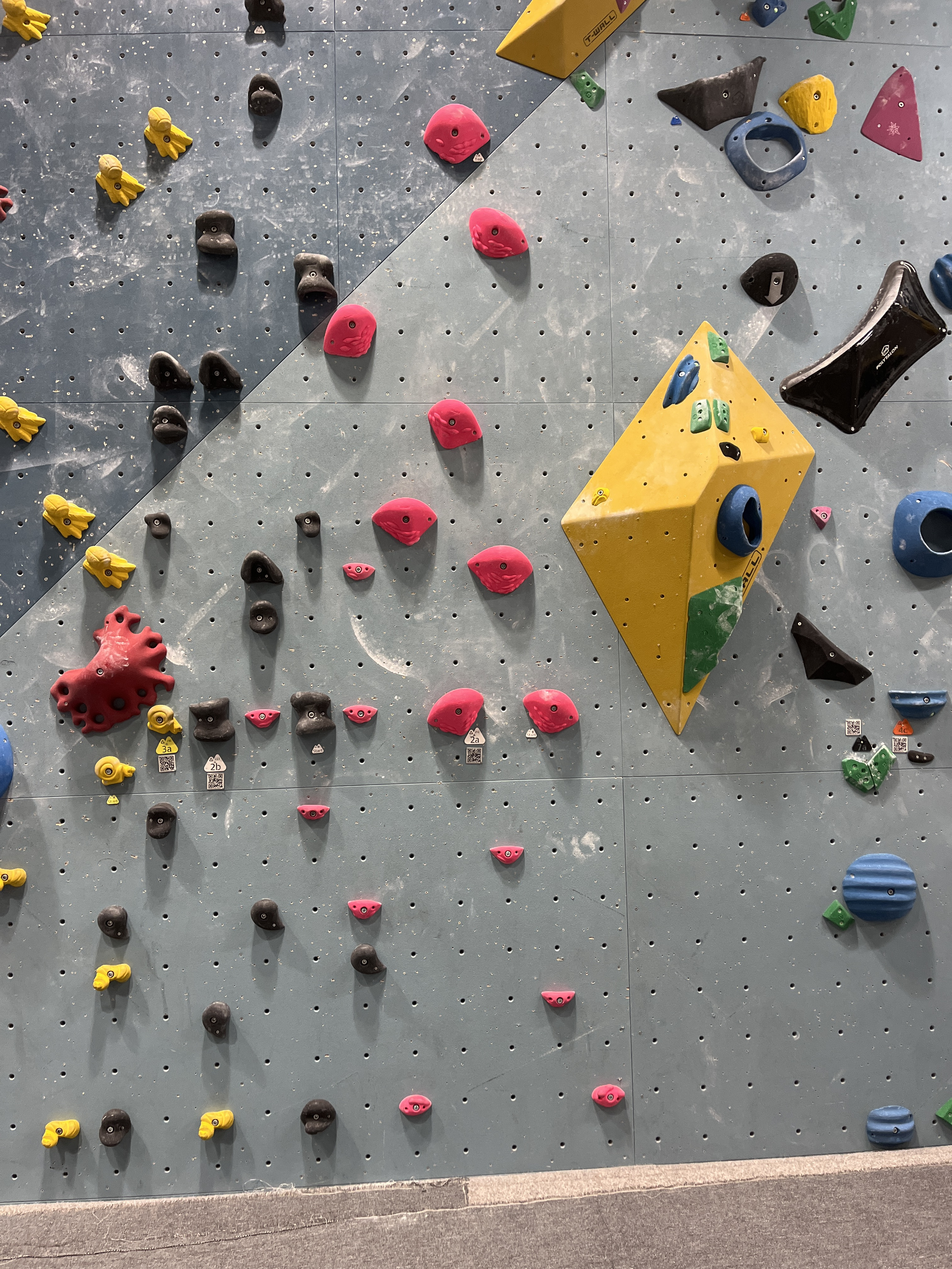hold: (781, 261, 946, 432), (51, 608, 170, 733), (659, 57, 763, 127), (683, 577, 742, 692), (725, 112, 807, 191), (862, 67, 920, 156), (793, 614, 870, 680), (892, 491, 950, 577), (842, 854, 916, 917), (424, 105, 488, 162), (779, 75, 837, 133), (740, 253, 798, 306), (716, 486, 759, 553), (372, 499, 434, 545), (470, 208, 527, 257), (470, 547, 530, 592), (323, 305, 375, 354), (428, 400, 480, 448), (523, 690, 577, 733), (428, 690, 481, 733), (295, 253, 335, 307), (97, 155, 141, 204), (43, 494, 93, 537), (842, 747, 890, 791), (146, 107, 188, 156), (0, 0, 51, 39), (0, 397, 43, 440), (85, 547, 133, 584), (190, 700, 232, 742), (809, 2, 855, 37), (664, 354, 696, 404), (292, 692, 331, 733), (196, 212, 236, 251), (866, 1106, 910, 1140), (200, 351, 242, 386), (890, 692, 943, 719), (247, 73, 281, 115), (148, 351, 188, 386), (150, 404, 186, 442), (569, 71, 604, 107), (930, 253, 952, 309), (99, 1108, 131, 1144), (242, 553, 279, 583), (244, 0, 285, 27), (301, 1100, 335, 1132), (147, 704, 182, 734), (95, 757, 133, 783), (146, 803, 173, 837), (200, 1110, 232, 1138), (202, 1001, 228, 1035), (252, 900, 281, 930), (823, 900, 853, 929), (95, 963, 128, 989), (43, 1120, 77, 1144), (353, 946, 383, 973), (99, 906, 124, 938), (751, 0, 783, 25), (250, 600, 275, 632), (690, 399, 711, 433), (400, 1094, 430, 1116), (2, 729, 12, 793), (593, 1084, 622, 1106), (708, 331, 728, 361), (345, 705, 375, 724), (146, 513, 168, 537), (348, 900, 379, 917), (297, 513, 319, 535), (0, 185, 13, 222), (491, 846, 521, 862), (247, 710, 275, 727), (299, 805, 327, 821), (543, 991, 573, 1005), (716, 398, 728, 430), (2, 868, 23, 886), (345, 563, 371, 577), (936, 1100, 950, 1124), (813, 507, 829, 527), (592, 487, 609, 505), (719, 442, 740, 456), (908, 751, 932, 761), (754, 426, 768, 440)
volume: (561, 323, 815, 731), (498, 2, 640, 77)
